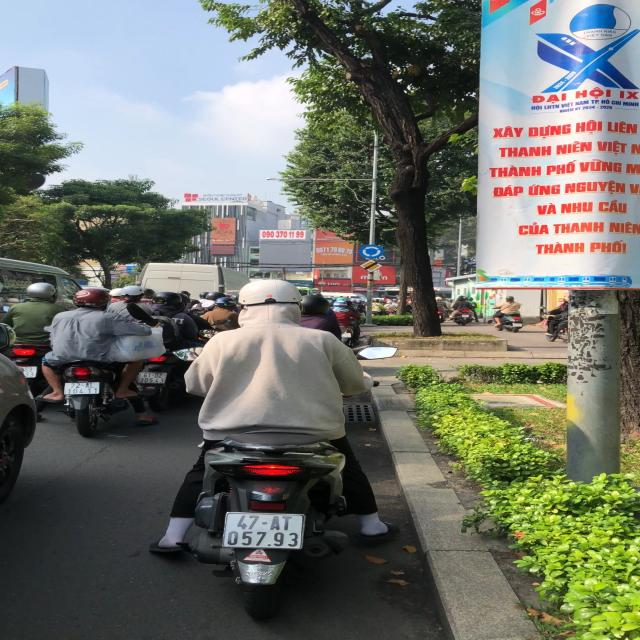Bien bao noi giao nhau chay theo vong xuyen: (356, 243, 386, 260)
